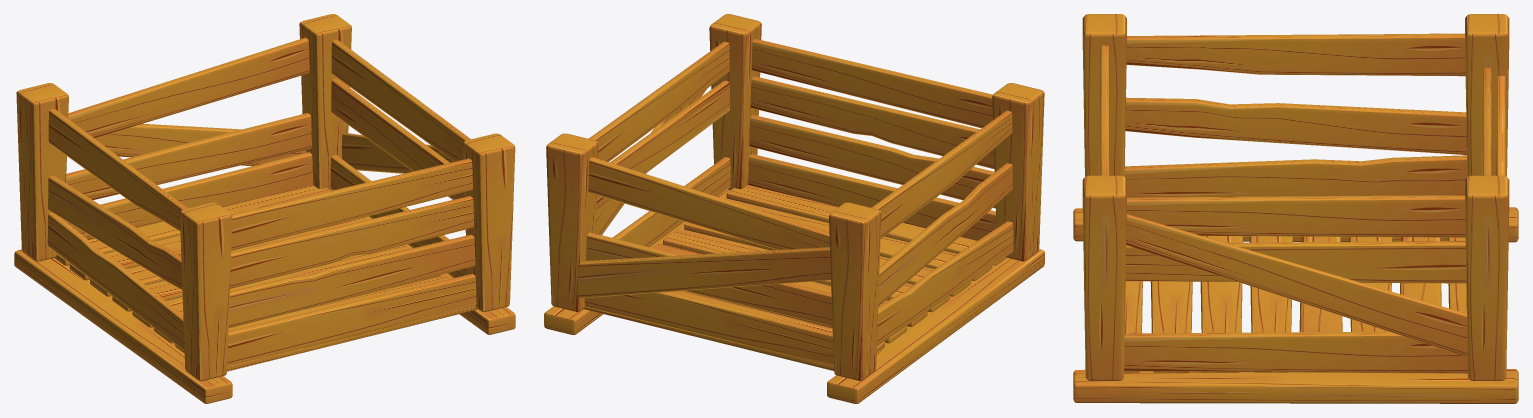
File: Coincraft_Crate.fbx
The picture shows the model from 3 angles, left to right: view 1: azimuth 30°, elevation 25°; view 2: azimuth 150°, elevation 25°; view 3: azimuth 270°, elevation 25°; orthographic projection. The views are drawn at different scales.
Parts seen in each view (by area): view 1: Crate1; view 2: Crate1; view 3: Crate1.
Part boxes in pixels (x1=…): Crate1: x1=14, y1=14, x2=515, y2=403; Crate1: x1=544, y1=14, x2=1044, y2=403; Crate1: x1=1073, y1=14, x2=1518, y2=403.
Bounding box in the file's own units: 227 × 122 × 233.
